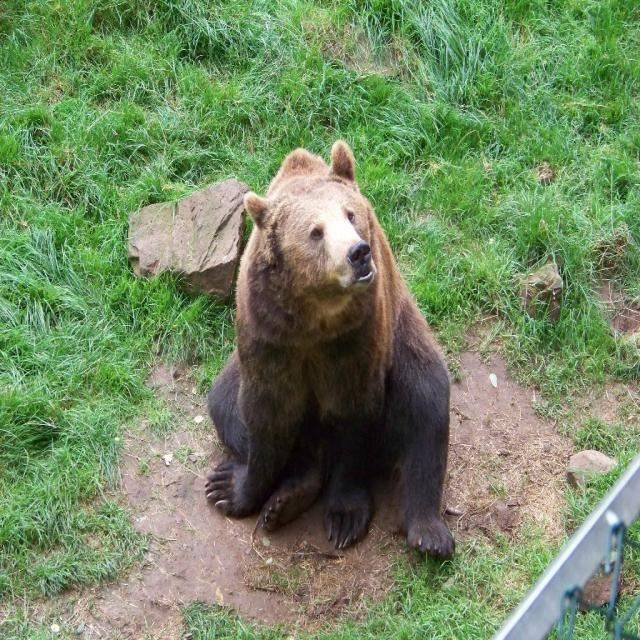Cheetahs: (205, 139, 457, 563)
